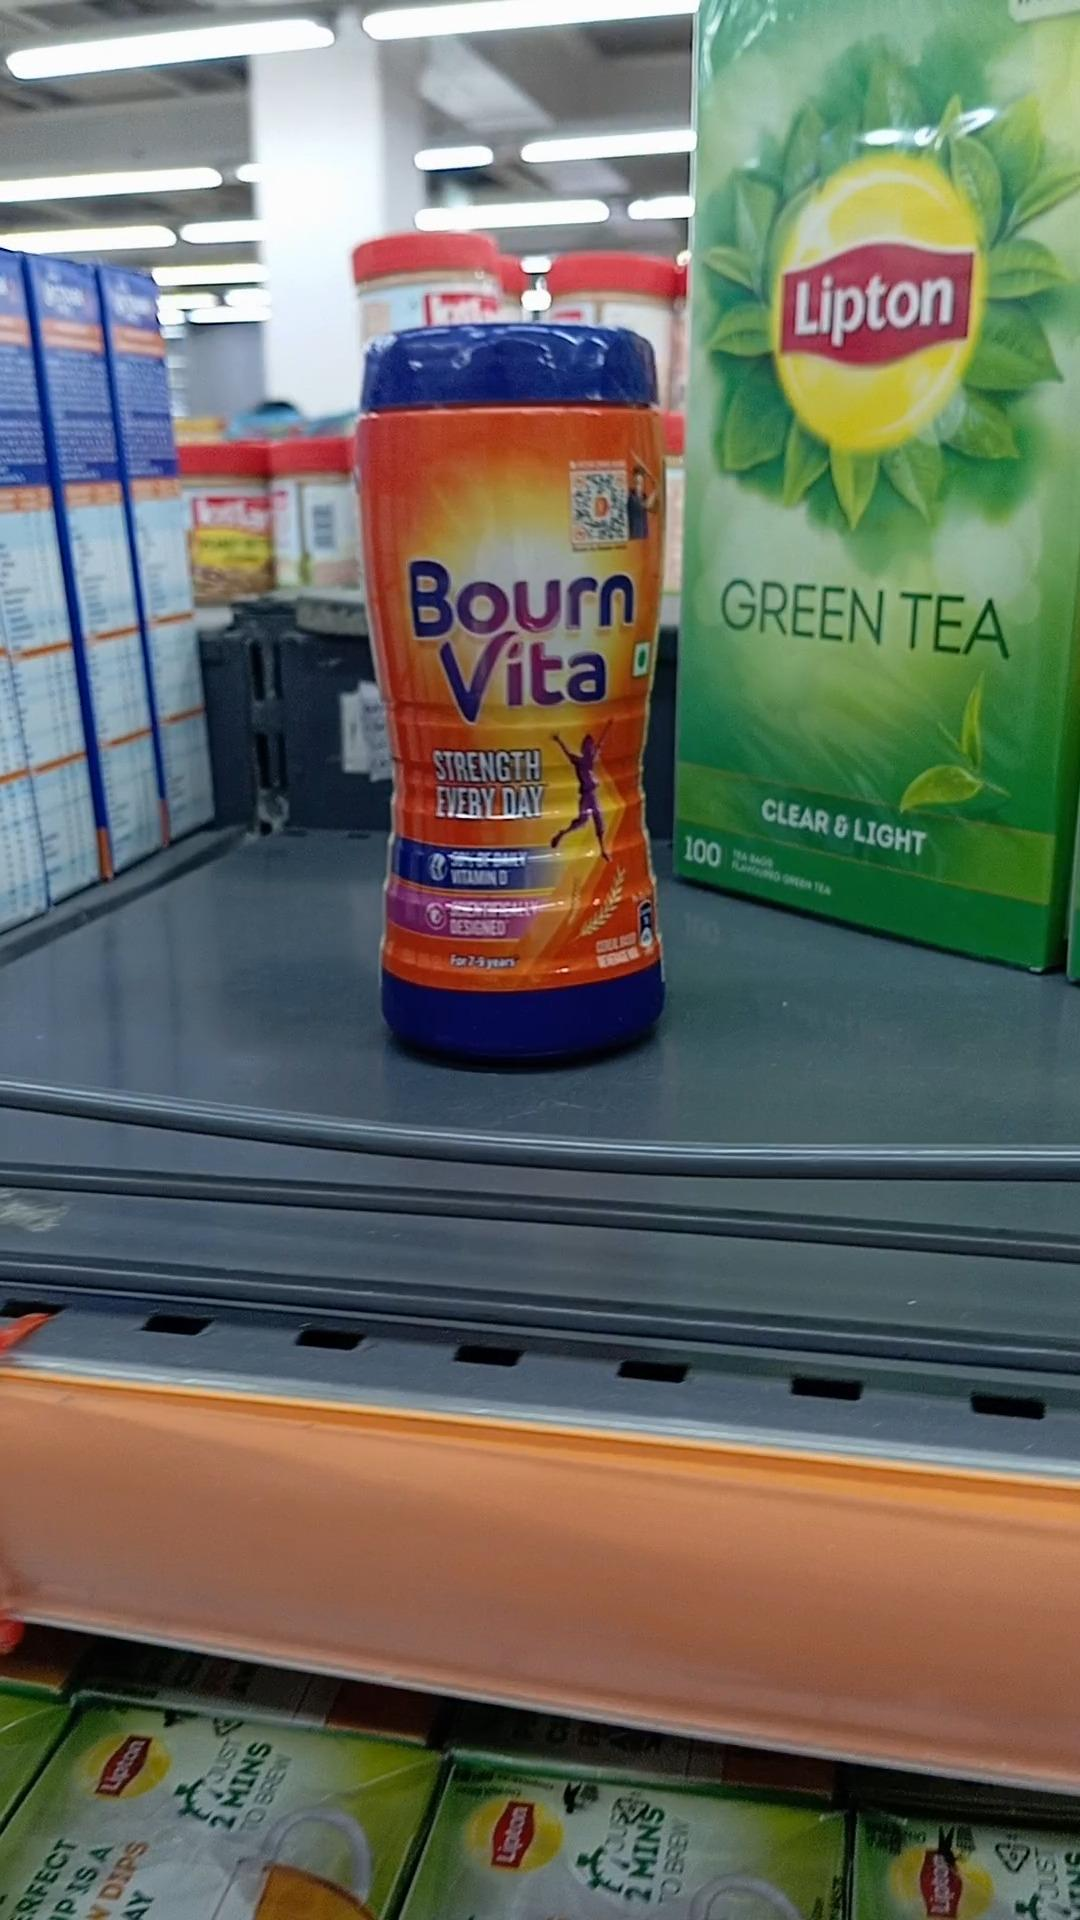BOURN_VITA_200_G_JAR: (355, 306, 663, 1068)
